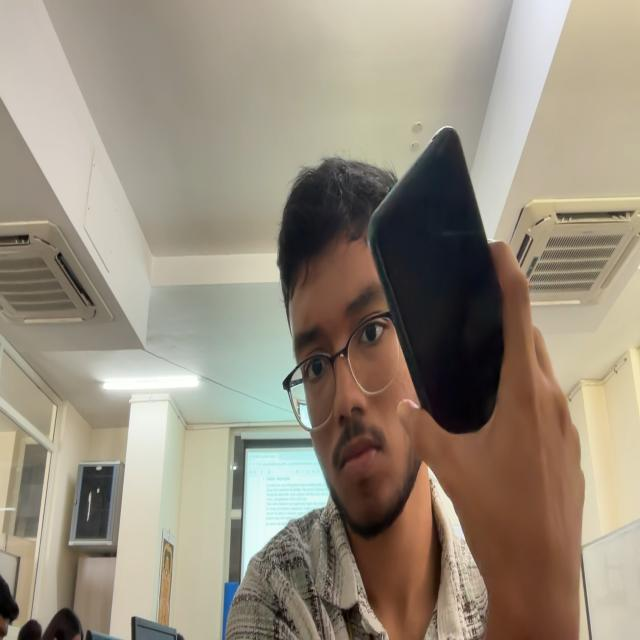Useful: (368, 126, 503, 433)
